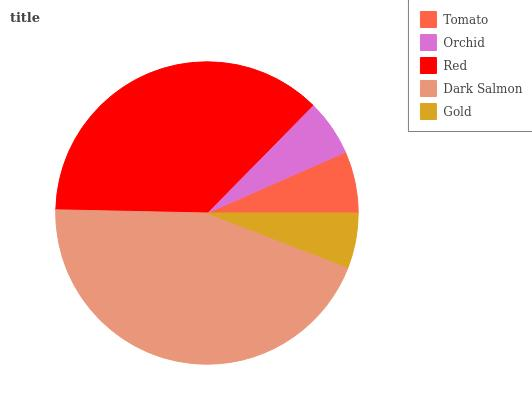legend: (408, 0, 532, 131)
sector: (55, 209, 348, 365), (56, 61, 312, 212), (211, 103, 345, 212), (212, 153, 359, 213), (209, 211, 361, 268)
